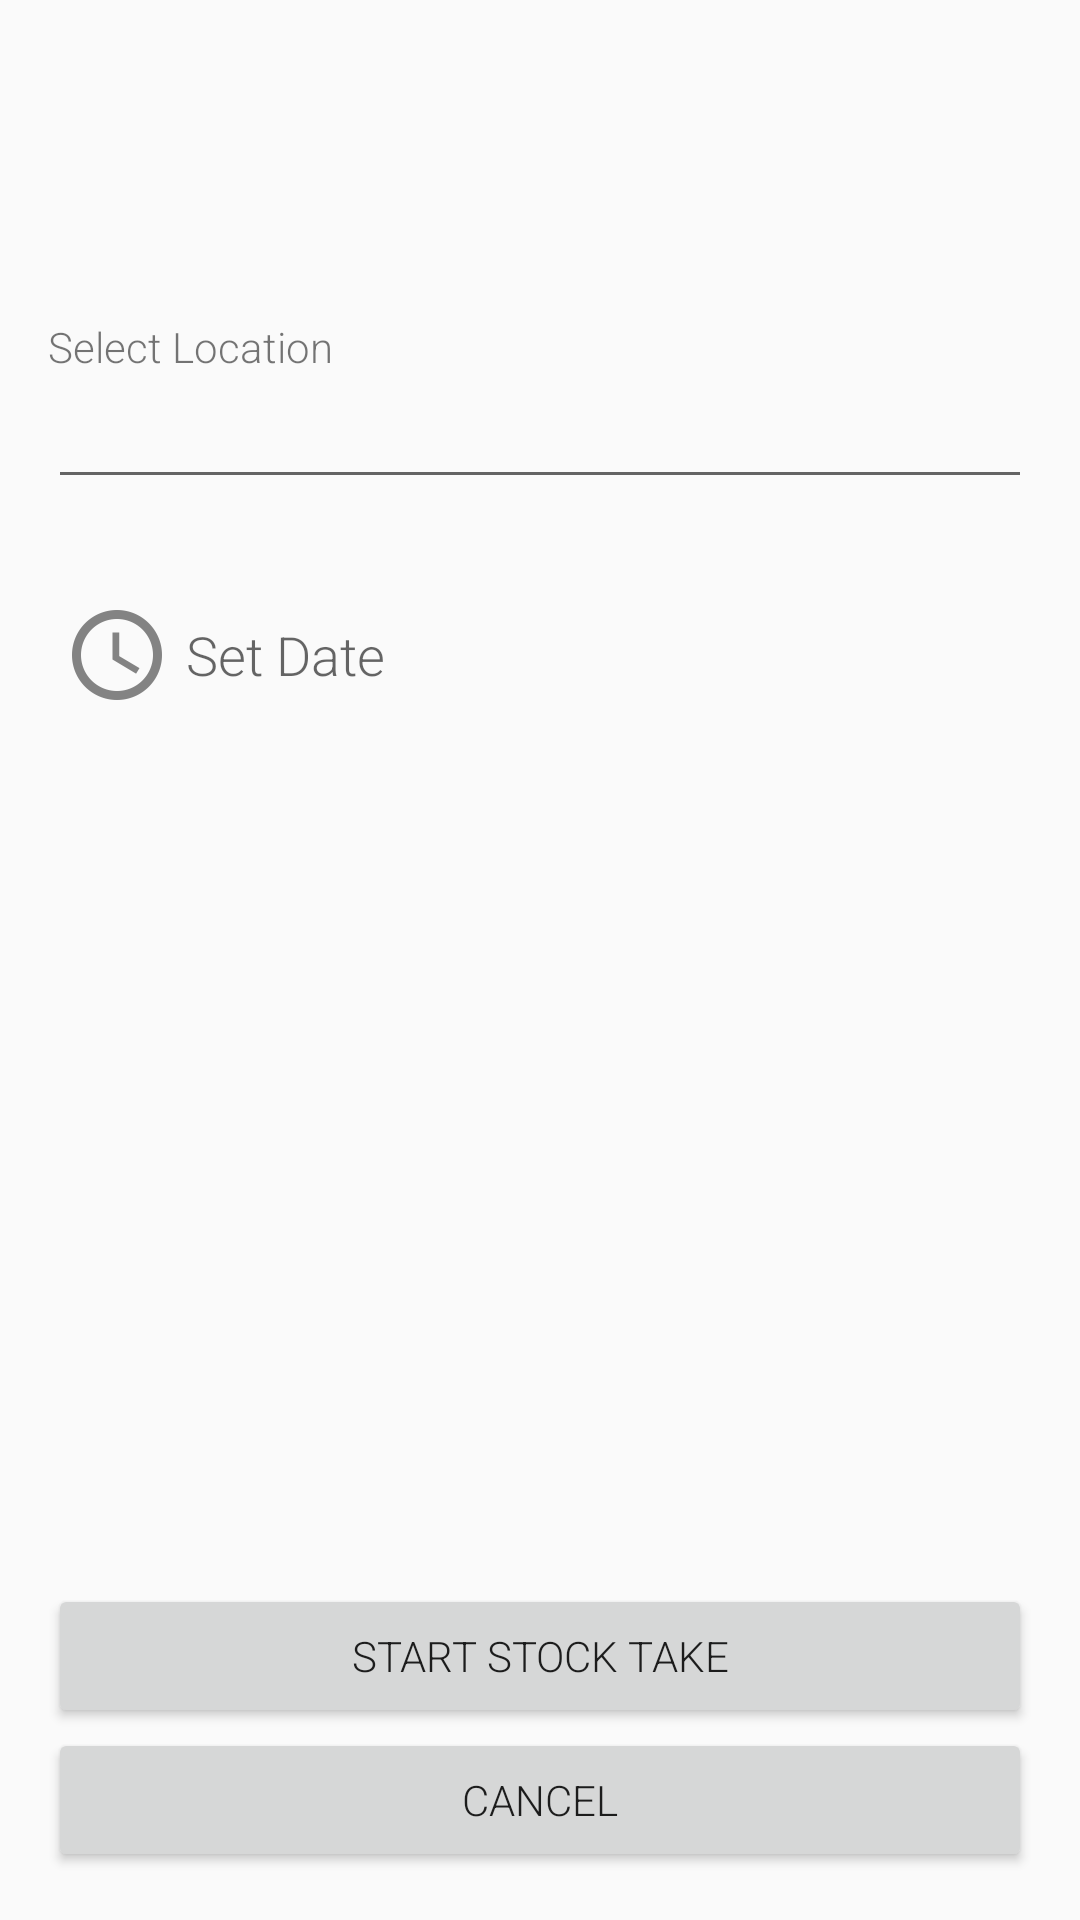

Icons on this 1080x1920 Android screen, each with its box as (x1, y1, x2, y2):
access time: (72, 610, 162, 700)
